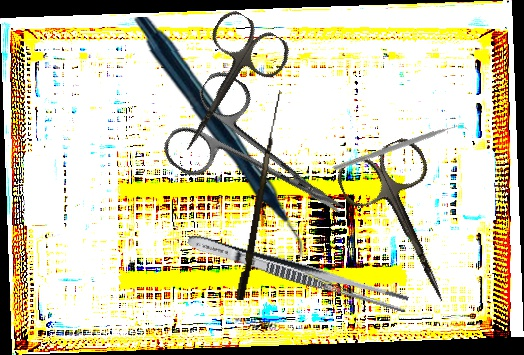Chopper: (332, 78, 471, 221)
Dressing Forceps: (184, 229, 411, 315)
Handpiece: (128, 16, 309, 258)
Hook Surgical: (235, 88, 282, 302)
Iris Scissors: (156, 65, 370, 258), (332, 133, 481, 320), (151, 5, 297, 171)
